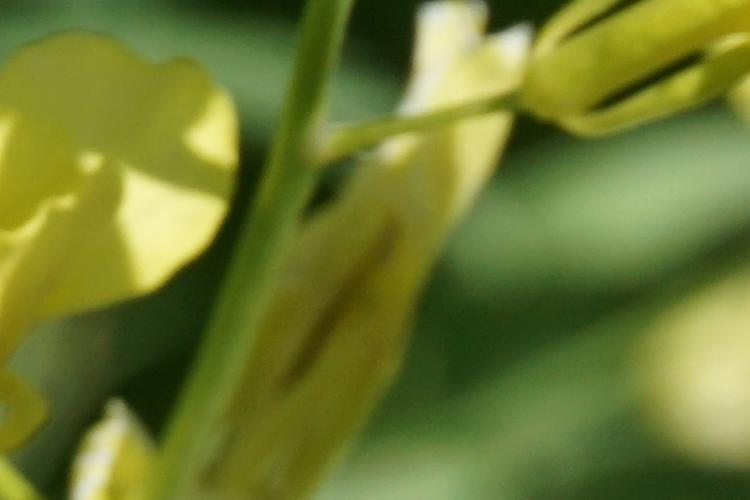yellow: (14, 46, 234, 310), (490, 36, 740, 143)
